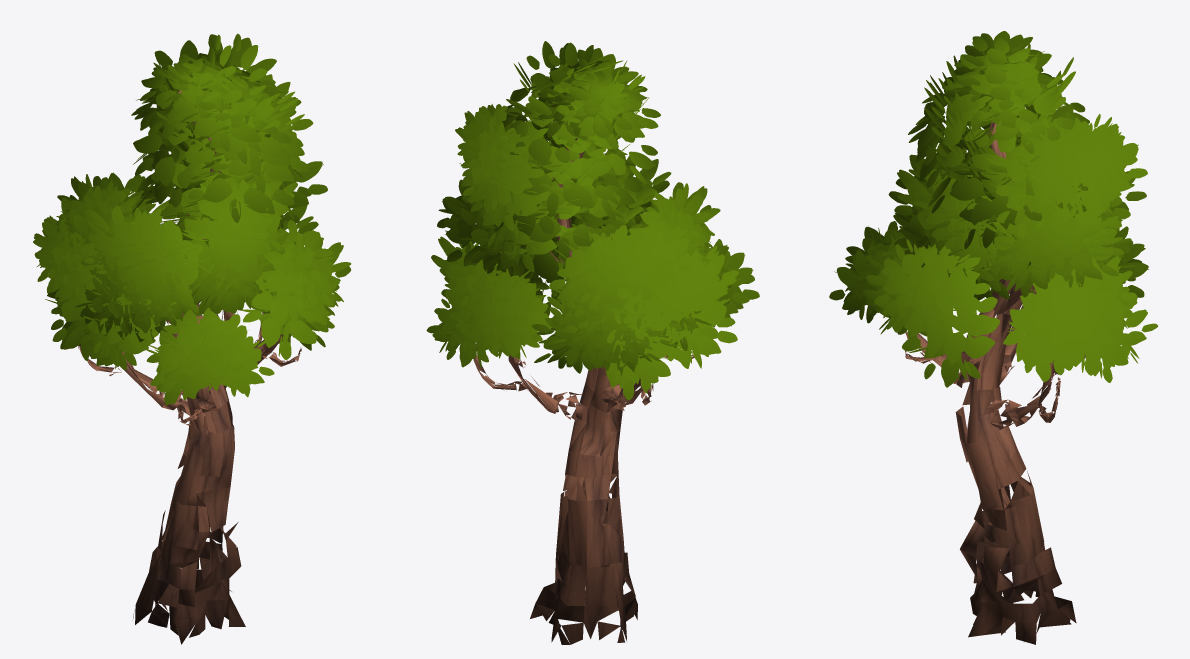
File: tree_2.gltf
The picture shows the model from 3 angles, left to right: view 1: azimuth 30°, elevation 25°; view 2: azimuth 150°, elevation 25°; view 3: azimuth 270°, elevation 25°; orthographic projection. The views are drawn at different scales.
Visible parts, largest first — view 1: CommonTree_2; view 2: CommonTree_2; view 3: CommonTree_2.
Boxes of the visible parts, left/top/right/bottom form: CommonTree_2: left=33, top=33, right=351, bottom=644; CommonTree_2: left=426, top=41, right=759, bottom=644; CommonTree_2: left=829, top=31, right=1157, bottom=644.
Bounding box in the file's own units: 4.46 × 7.72 × 4.28.
Materials: 2 (2 with a texture image).
